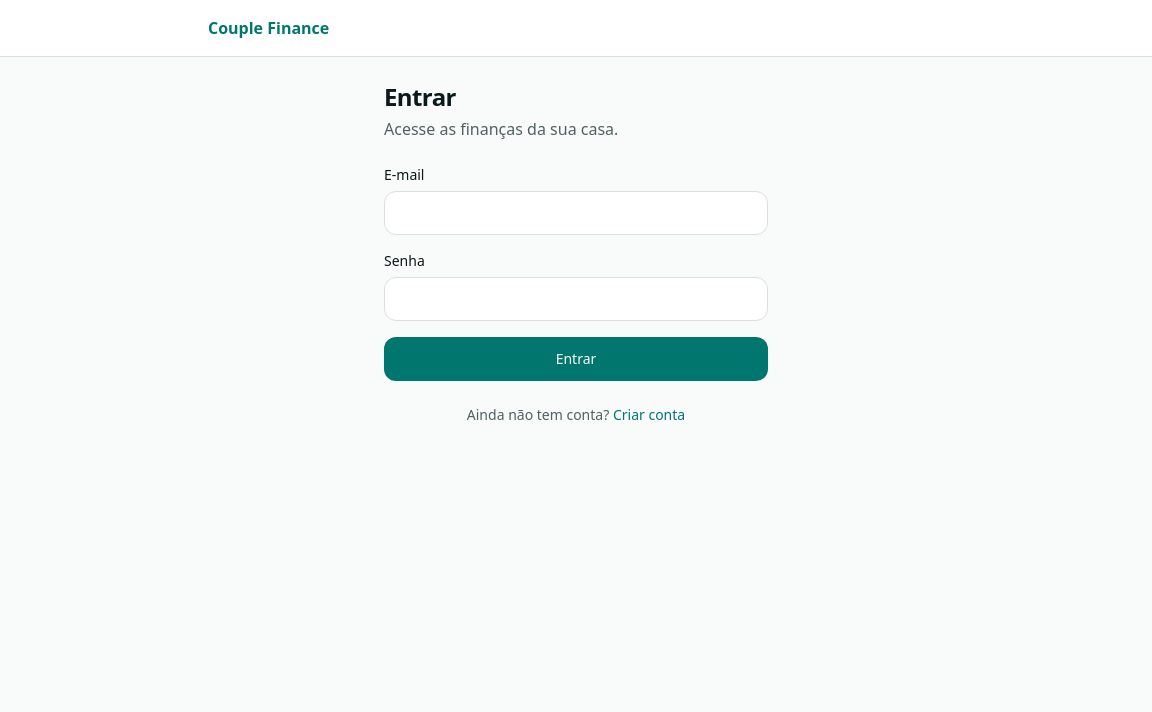
authentication flow › logs in and returns to the requested page
Type "alex@example.com" into the field labelled "E-mail" at (576, 213), box [384,191,768,235]
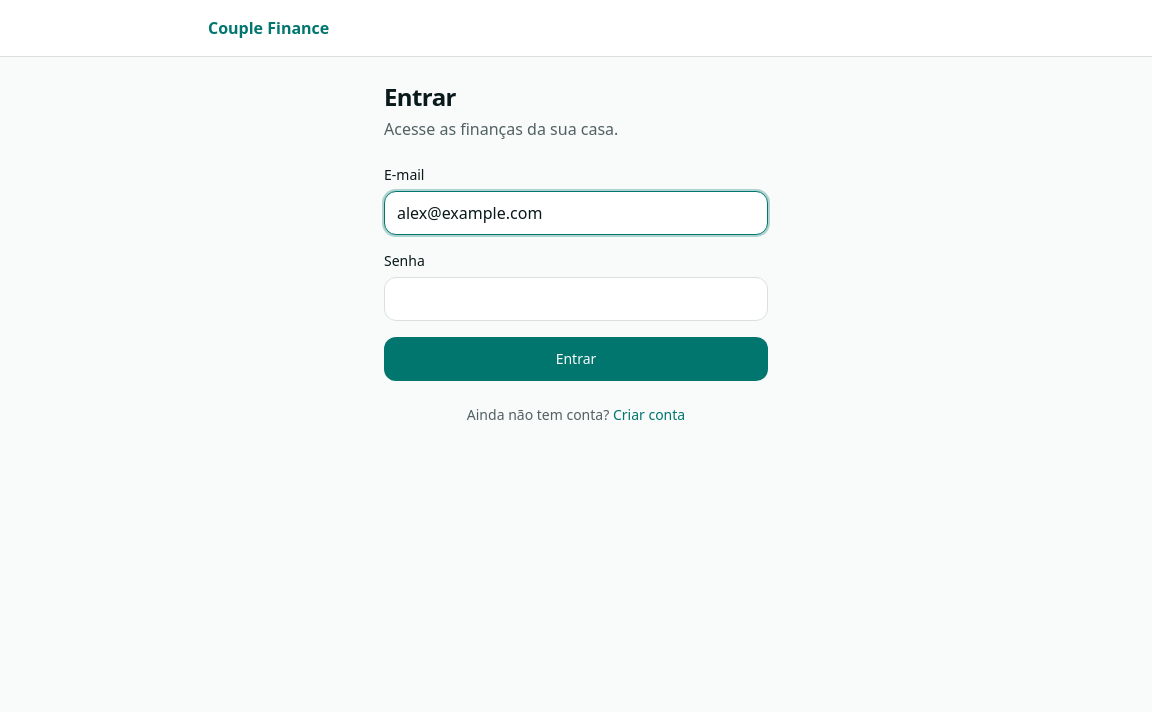
Type "cafe com leite na varanda" into the password field labelled "Senha" at (576, 299), box [384,277,768,321]
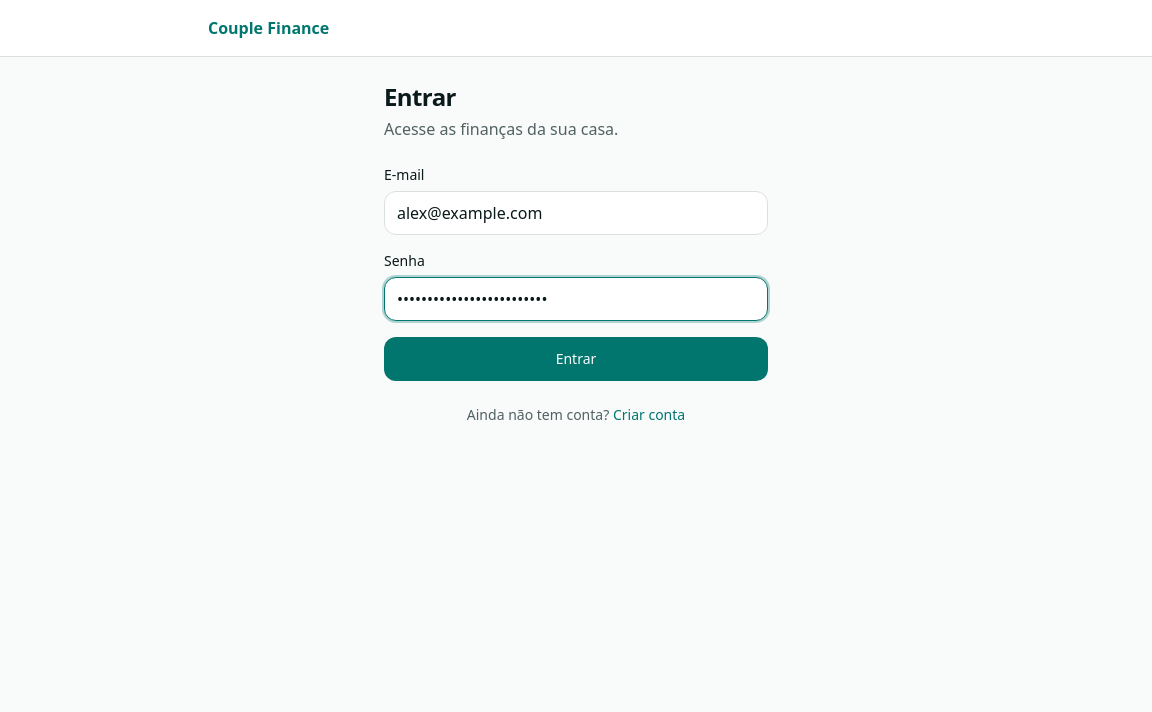
Click the button "Entrar" at (576, 359), box [384,337,768,381]
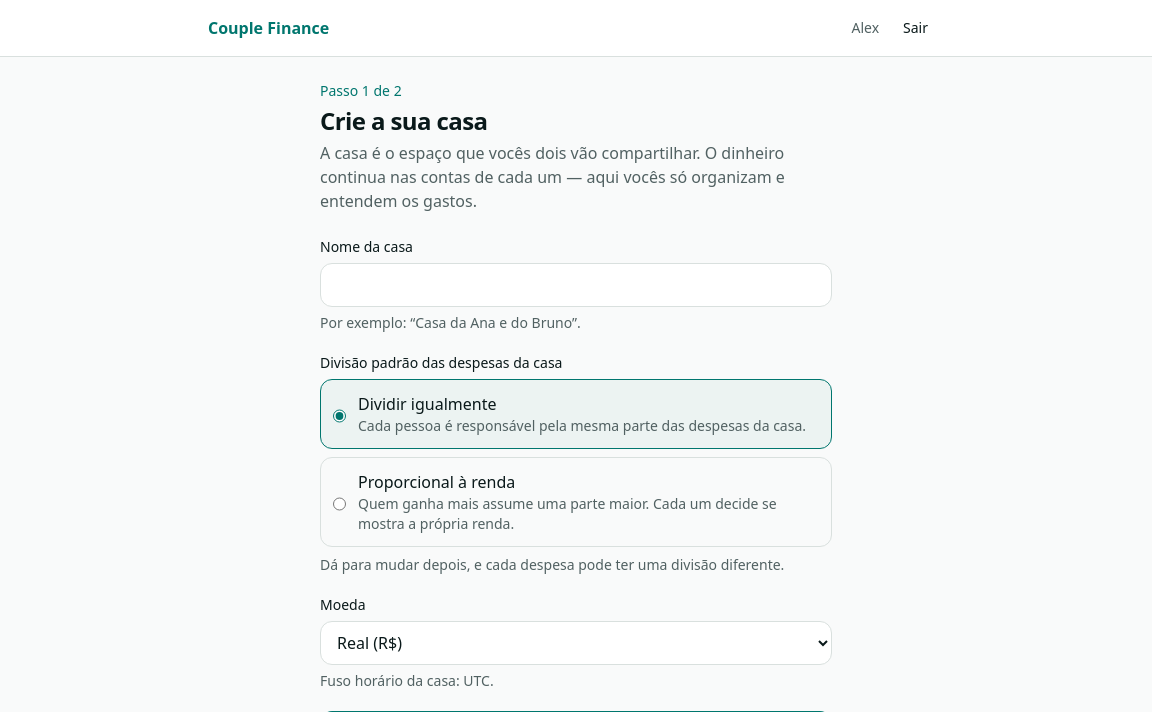
Result: the heading "Crie a sua casa" is shown at [320,104,487,137]
